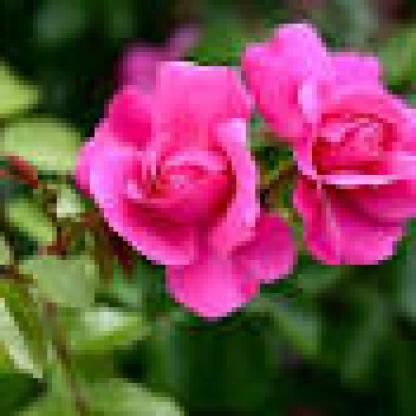Rose-Mawar: (67, 15, 412, 323)
